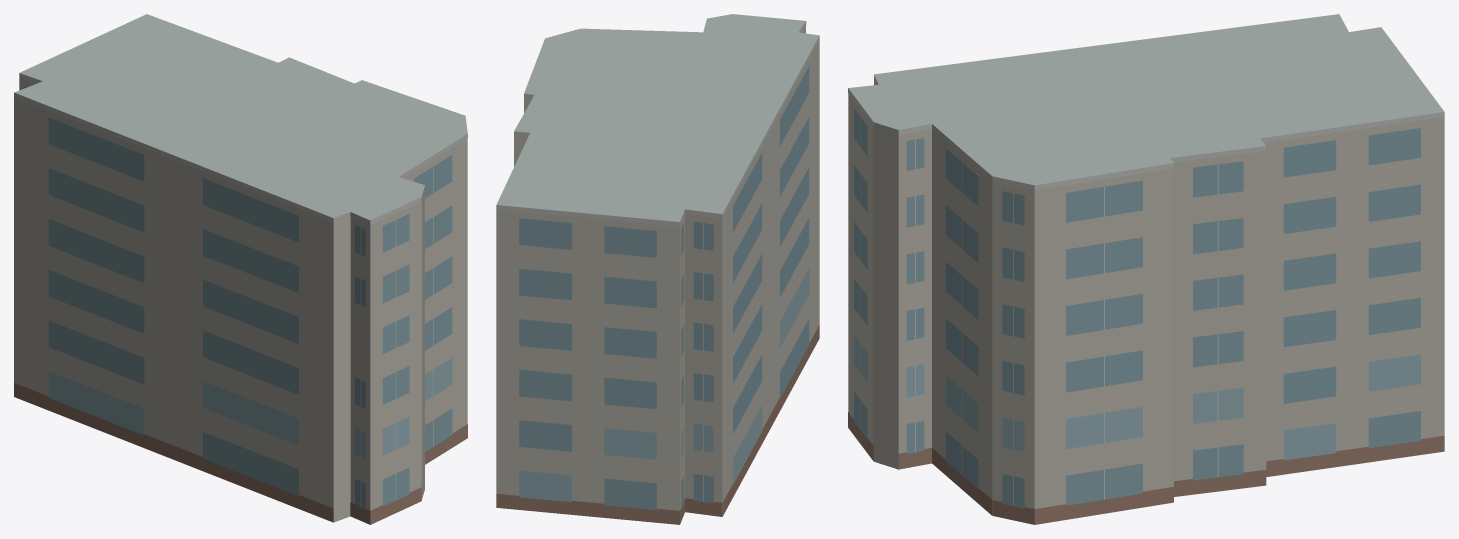
Rendered from survey-upis-32644188.glb.
3 renders of one model, left to right at view 1: azimuth 30°, elevation 25°; view 2: azimuth 150°, elevation 25°; view 3: azimuth 270°, elevation 25°, orthographic. The views are drawn at different scales.
Visible parts, largest first — view 1: survey-upis-32644188.tmp; view 2: survey-upis-32644188.tmp; view 3: survey-upis-32644188.tmp.
Part boxes in pixels (x1,y1,x2,y2): survey-upis-32644188.tmp: (14, 14, 467, 524); survey-upis-32644188.tmp: (496, 14, 819, 524); survey-upis-32644188.tmp: (848, 14, 1444, 524).
Size of the model in its own units: 17.65 by 16.3 by 25.97.
